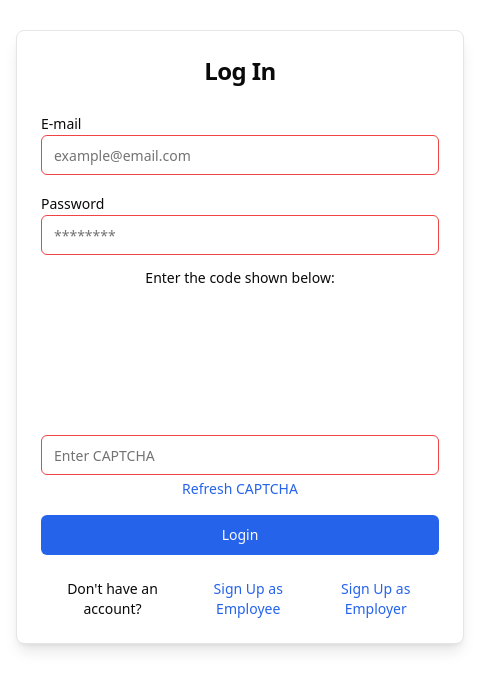
Login Page › shows error when CAPTCHA is incorrect
This screenshot has width=481, height=684.
Fill form with valid data but incorrect CAPTCHA
Type "test@example.com" into the field labelled "E-mail".
click(240, 155); type("test@example.com")  # box [41,135,439,175]
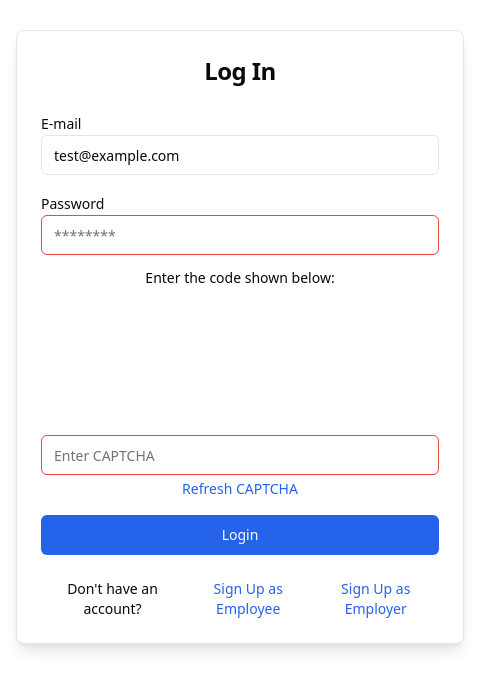
Type "password123" into the password field labelled "Password".
click(240, 235); type("password123")  # box [41,215,439,255]
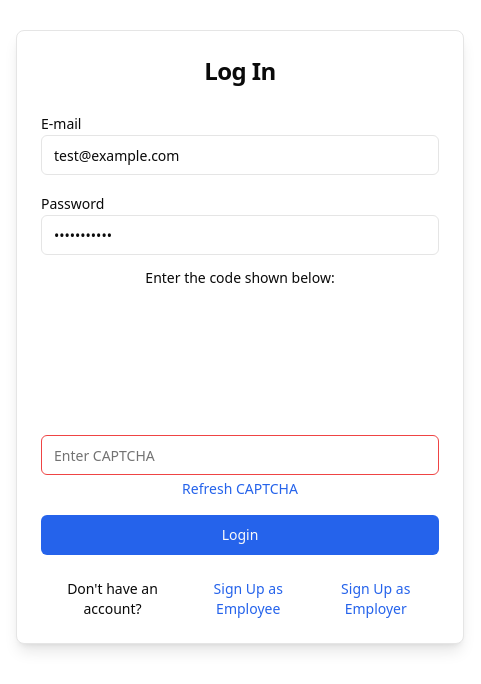
Type "wrong-captcha" into the field with placeholder "Enter CAPTCHA".
click(240, 455); type("wrong-captcha")  # box [41,435,439,475]
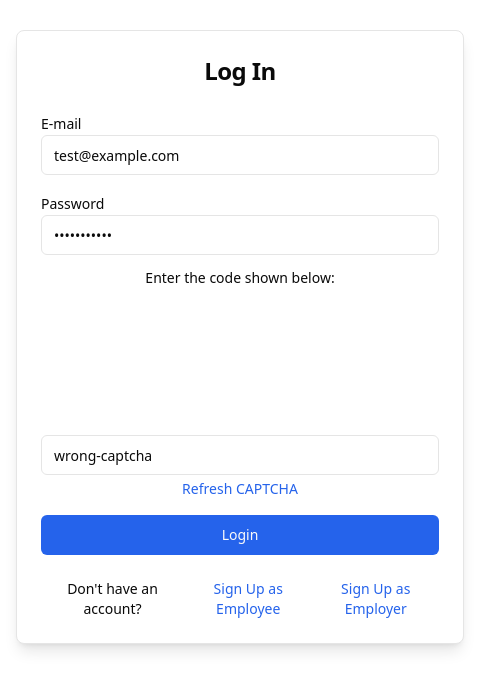
Submit form
Submit the form from the button "Login", box [41,515,439,555]
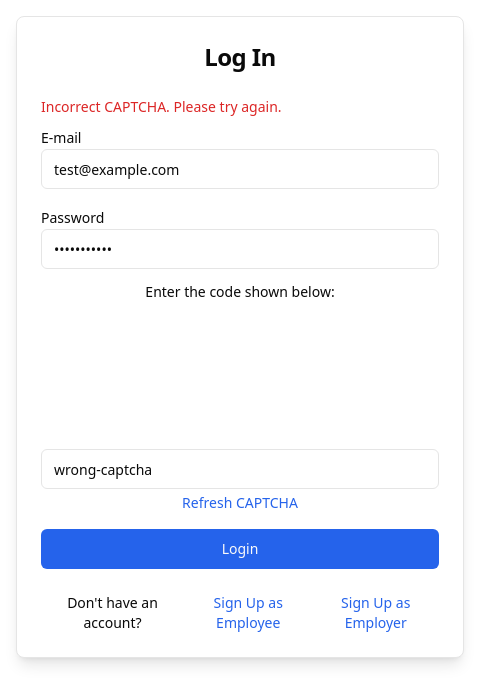
Now the text "Incorrect CAPTCHA. Please try again." is shown, box [41,97,282,116]
